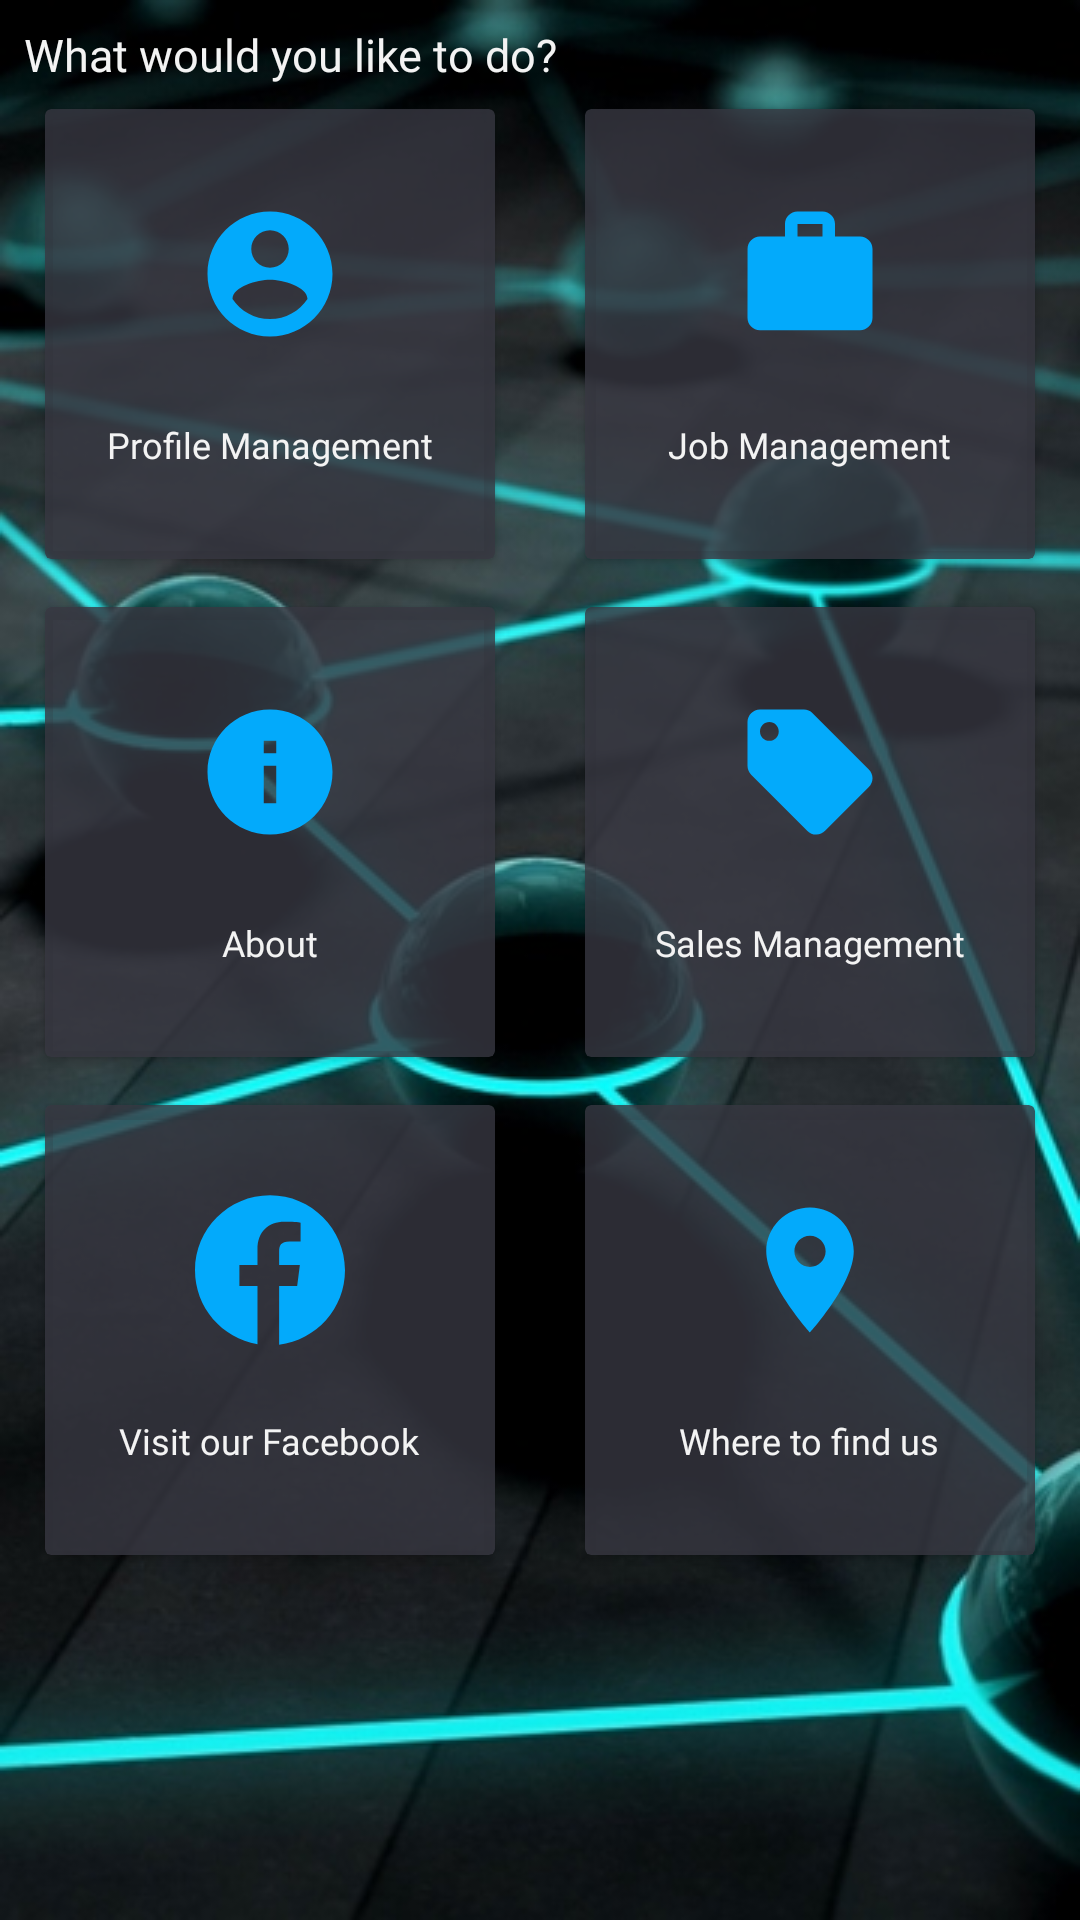

Locate icon controls on the screen. Image size 1080×1920, boxes as (x1, y1, x2, y2).
account: (207, 211, 333, 337)
location: (735, 1199, 885, 1345)
work: (747, 211, 873, 331)
